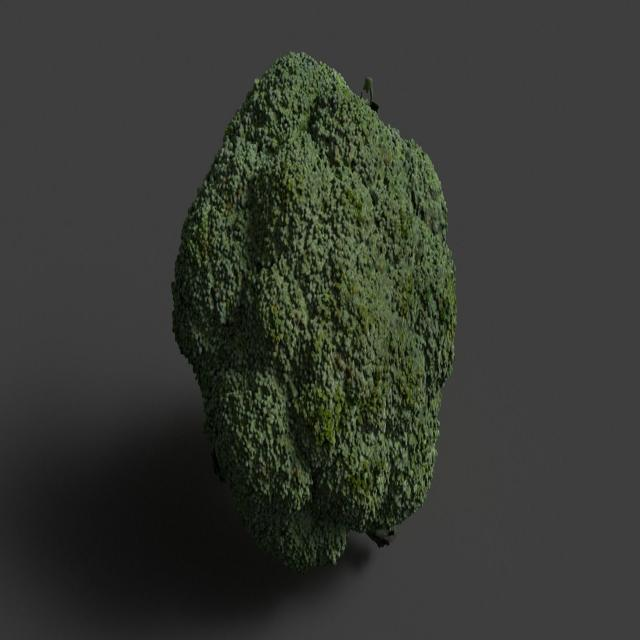broccoli: (169, 50, 460, 575)
